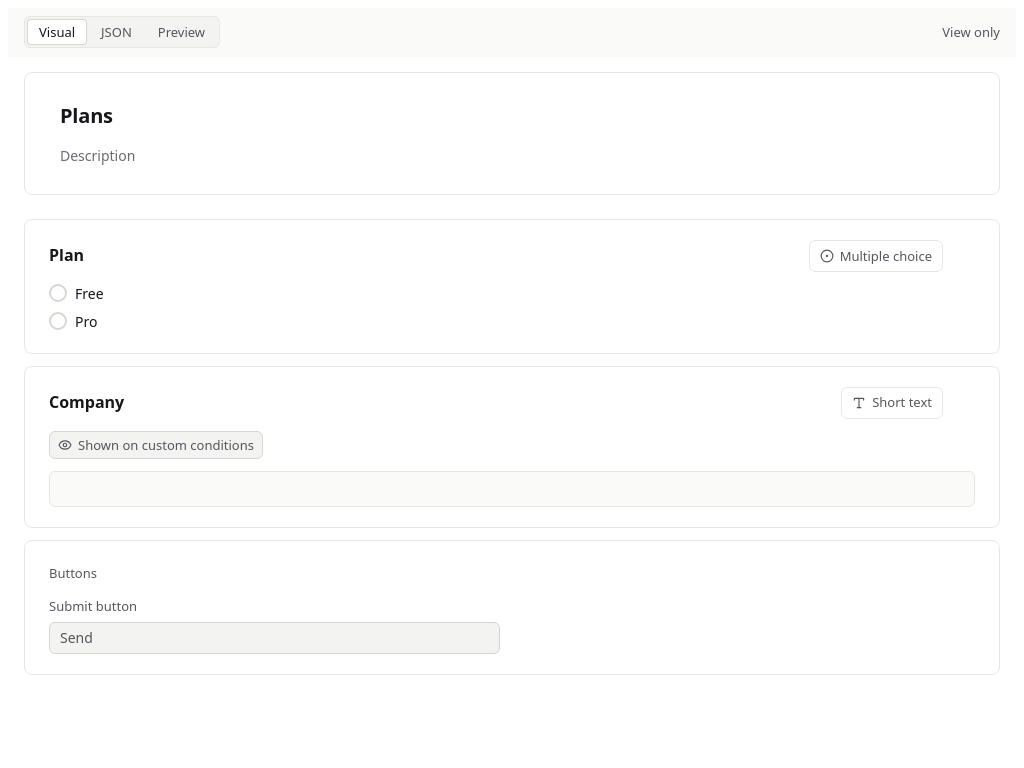
Test: field settings sections › points to the JSON tab for conditions the editor cannot show in a read-only form
Click the button "Shown on custom conditions" at (156, 445), box top-left (49, 431), bottom-right (263, 459)
(page scrolled)
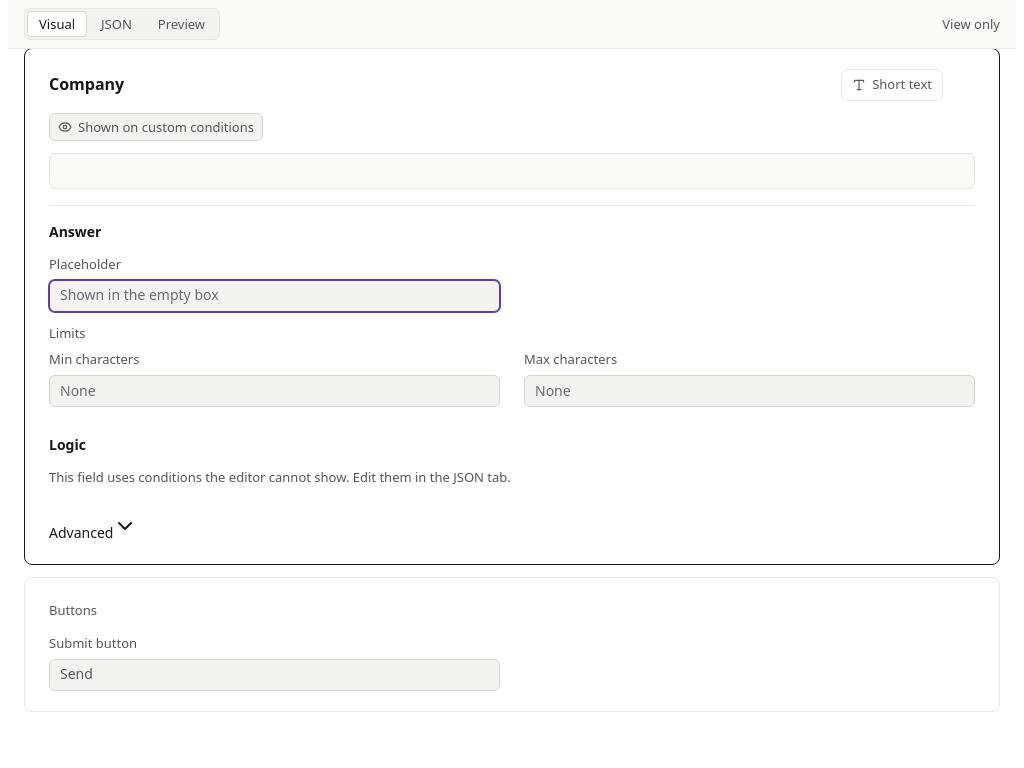
Expected: the text "This field uses conditions the editor cannot show. Edit them in the JSON tab." is shown, top-left (49, 468), bottom-right (511, 486)
